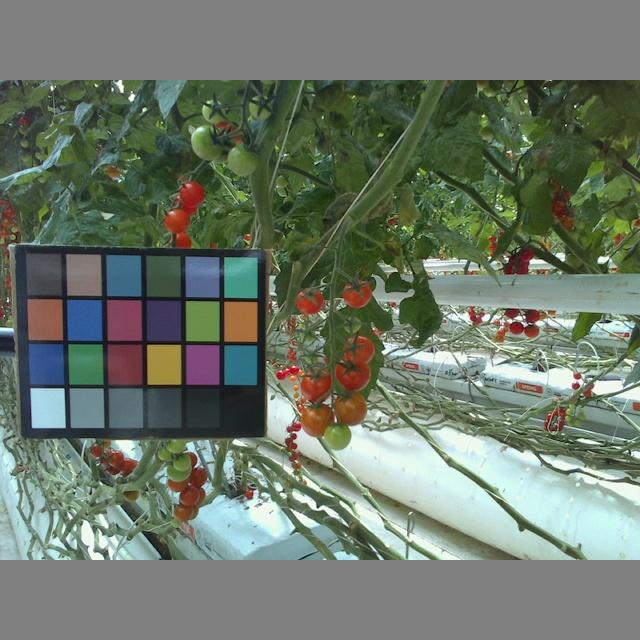green: (190, 126, 225, 161), (226, 145, 261, 176), (323, 422, 352, 451), (246, 95, 271, 122), (201, 99, 225, 124)
pink: (334, 355, 371, 389), (299, 405, 335, 439), (332, 392, 367, 426), (343, 335, 375, 366), (301, 369, 333, 400), (342, 276, 372, 307), (294, 290, 328, 315)
red: (163, 206, 191, 233), (179, 178, 204, 208)
